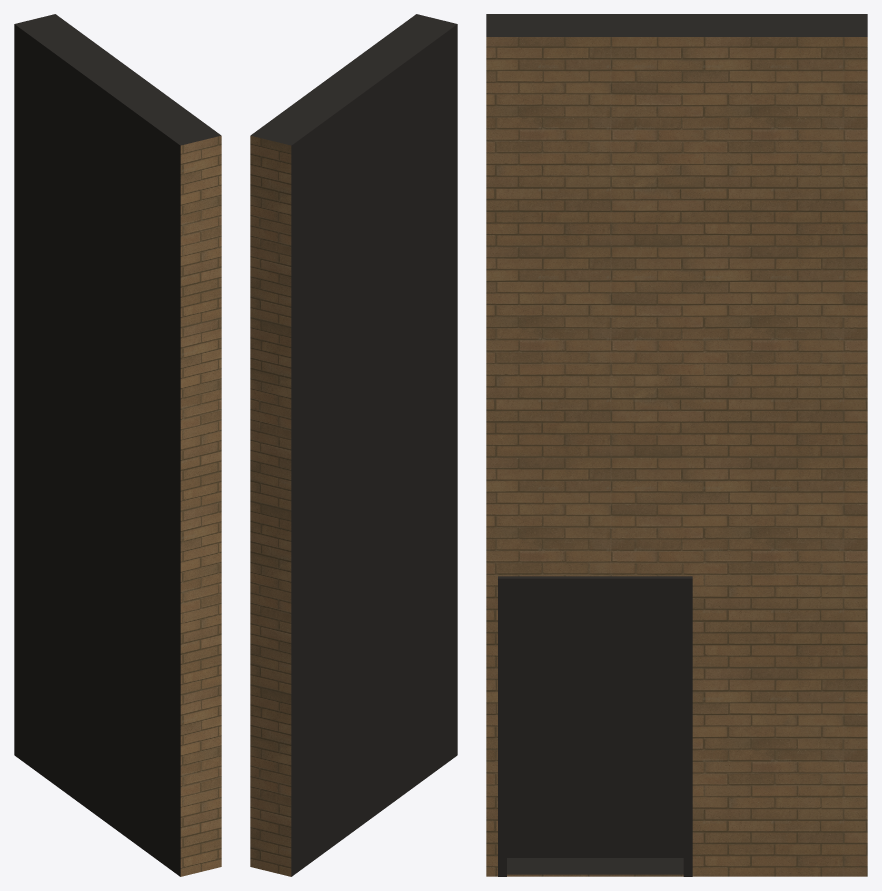
The model's file is GYM_Brick_Doorway_2.fbx.
3 renders of one model, left to right at view 1: azimuth 30°, elevation 25°; view 2: azimuth 150°, elevation 25°; view 3: azimuth 270°, elevation 25°, orthographic. The views are drawn at different scales.
Parts seen in each view (by area): view 1: GYM_Side_Door_Wall; view 2: GYM_Side_Door_Wall; view 3: GYM_Side_Door_Wall.
Boxes of the visible parts, <box> form: GYM_Side_Door_Wall: <box>14,14,221,876</box>; GYM_Side_Door_Wall: <box>250,14,457,876</box>; GYM_Side_Door_Wall: <box>486,14,867,876</box>.
Bounding box in the file's own units: 0.5512 × 8.5 × 3.5.
Materials: 3 (1 with a texture image).
